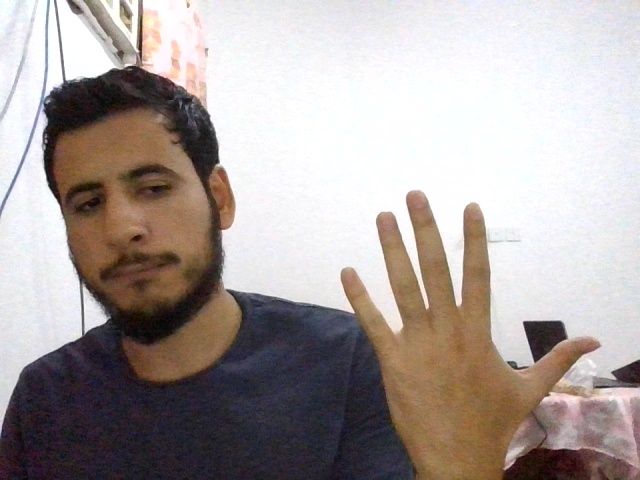Five: (341, 190, 602, 478)
